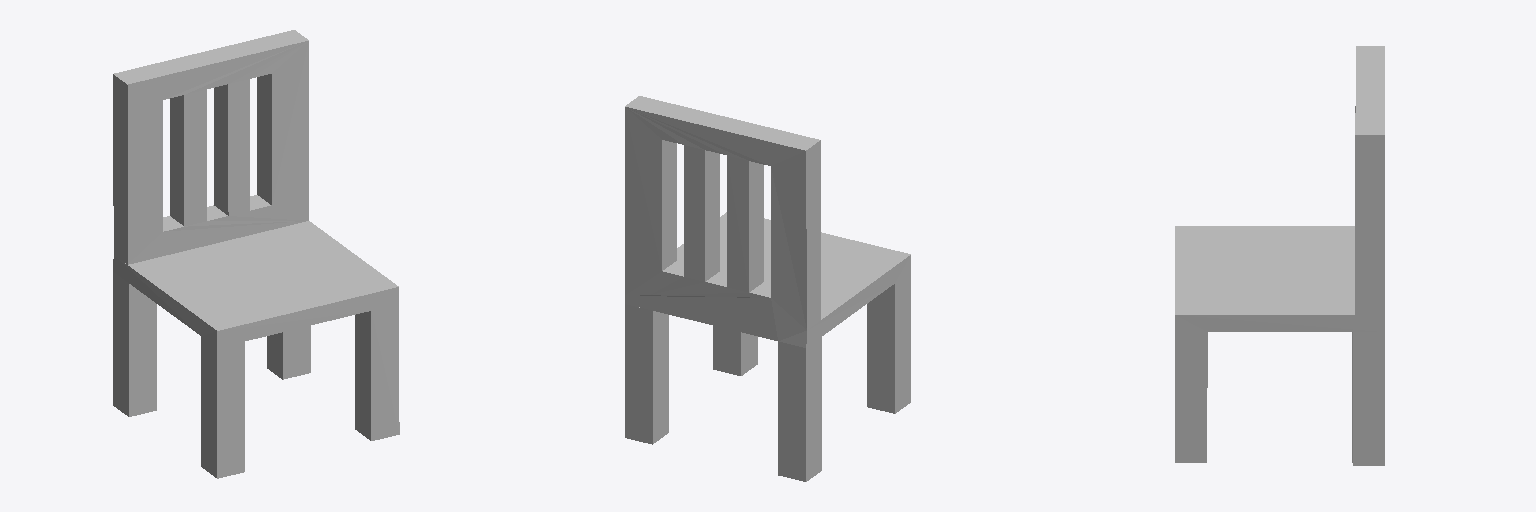
Rendered from chair1.obj.
The picture shows the model from 3 angles: view 1: azimuth 30°, elevation 25°; view 2: azimuth 150°, elevation 25°; view 3: azimuth 270°, elevation 25°; orthographic projection.
Visible parts, largest first — view 1: Object.1; view 2: Object.1; view 3: Object.1.
Boxes of the visible parts, x1=… form: Object.1: x1=113, y1=30, x2=399, y2=478; Object.1: x1=625, y1=96, x2=910, y2=481; Object.1: x1=1175, y1=46, x2=1384, y2=465.
Bounding box in the file's own units: 0.718 × 1.25 × 0.7181.